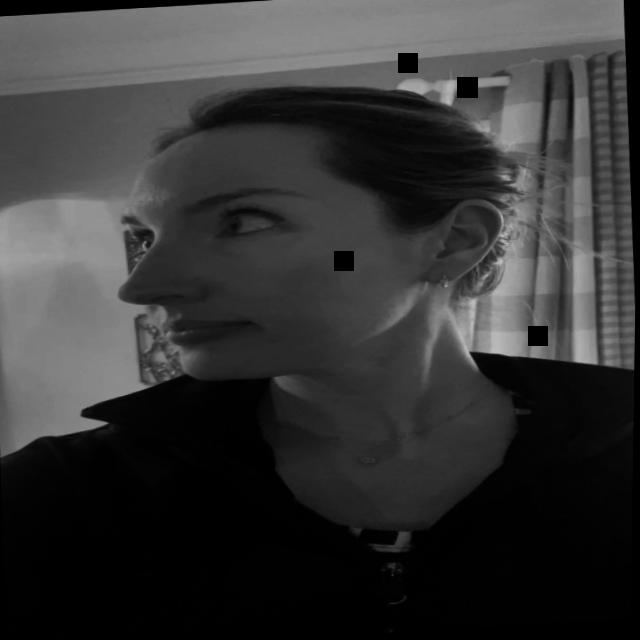NO-Mask: (114, 90, 502, 404)
